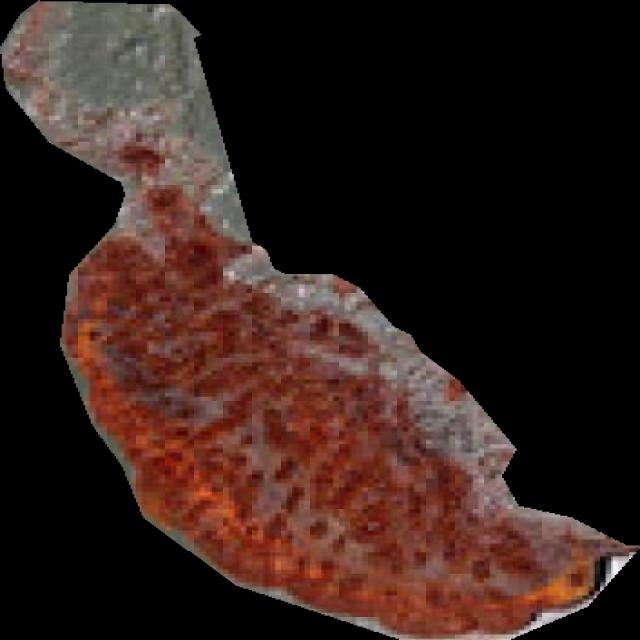Pitting Corrosion: (0, 0, 640, 640)
